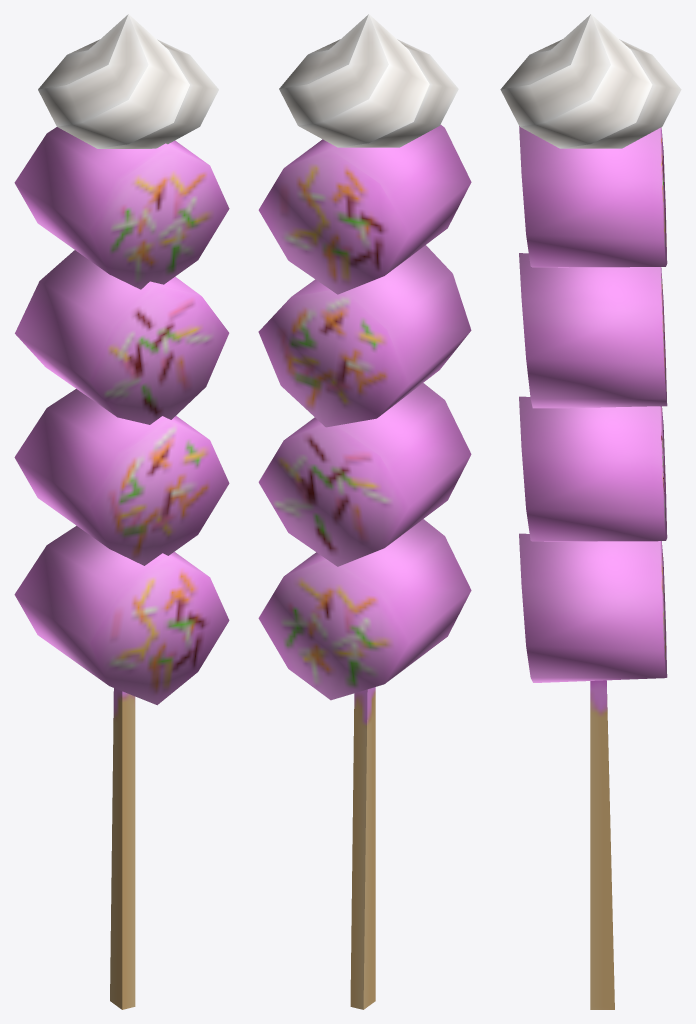
File: jsf_ChocolateBanana_b03_c02.fbx
3 renders of one model, left to right at view 1: azimuth 30°, elevation 25°; view 2: azimuth 150°, elevation 25°; view 3: azimuth 270°, elevation 25°, orthographic.
Visible parts, largest first — view 1: jsf_ChocolateBanana_b03_c02; view 2: jsf_ChocolateBanana_b03_c02; view 3: jsf_ChocolateBanana_b03_c02.
Part boxes in pixels (x1,y1,x2,y2): jsf_ChocolateBanana_b03_c02: (14,14,229,1009); jsf_ChocolateBanana_b03_c02: (258,14,471,1009); jsf_ChocolateBanana_b03_c02: (500,14,681,1009).
Bounding box in the file's own units: 4.05 × 25.18 × 4.16.
